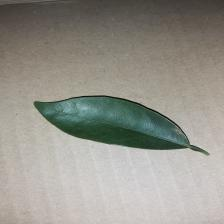healthy: (17, 85, 173, 160)
